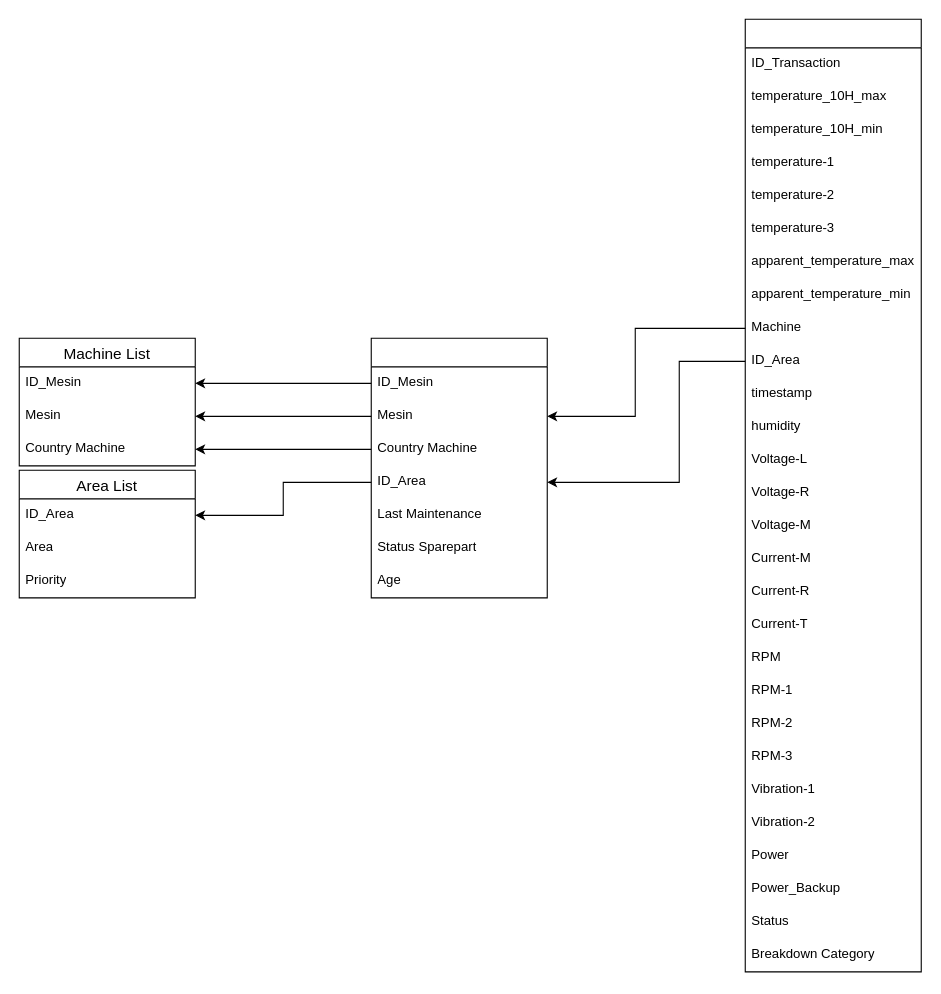
This 941x994 diagram has some shape labels left out. Here are the shapes that lost their labels. From the top down, the box of each, then its label:
(370, 337, 547, 598): Machine Area
(744, 18, 921, 972): Main (train.csv)
